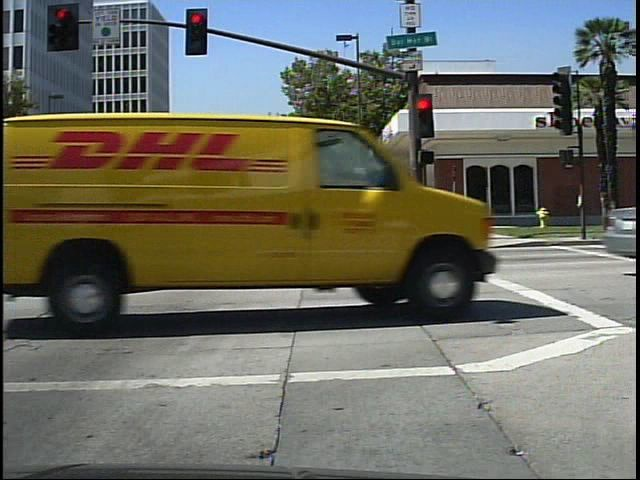person: (280, 204, 293, 222)
